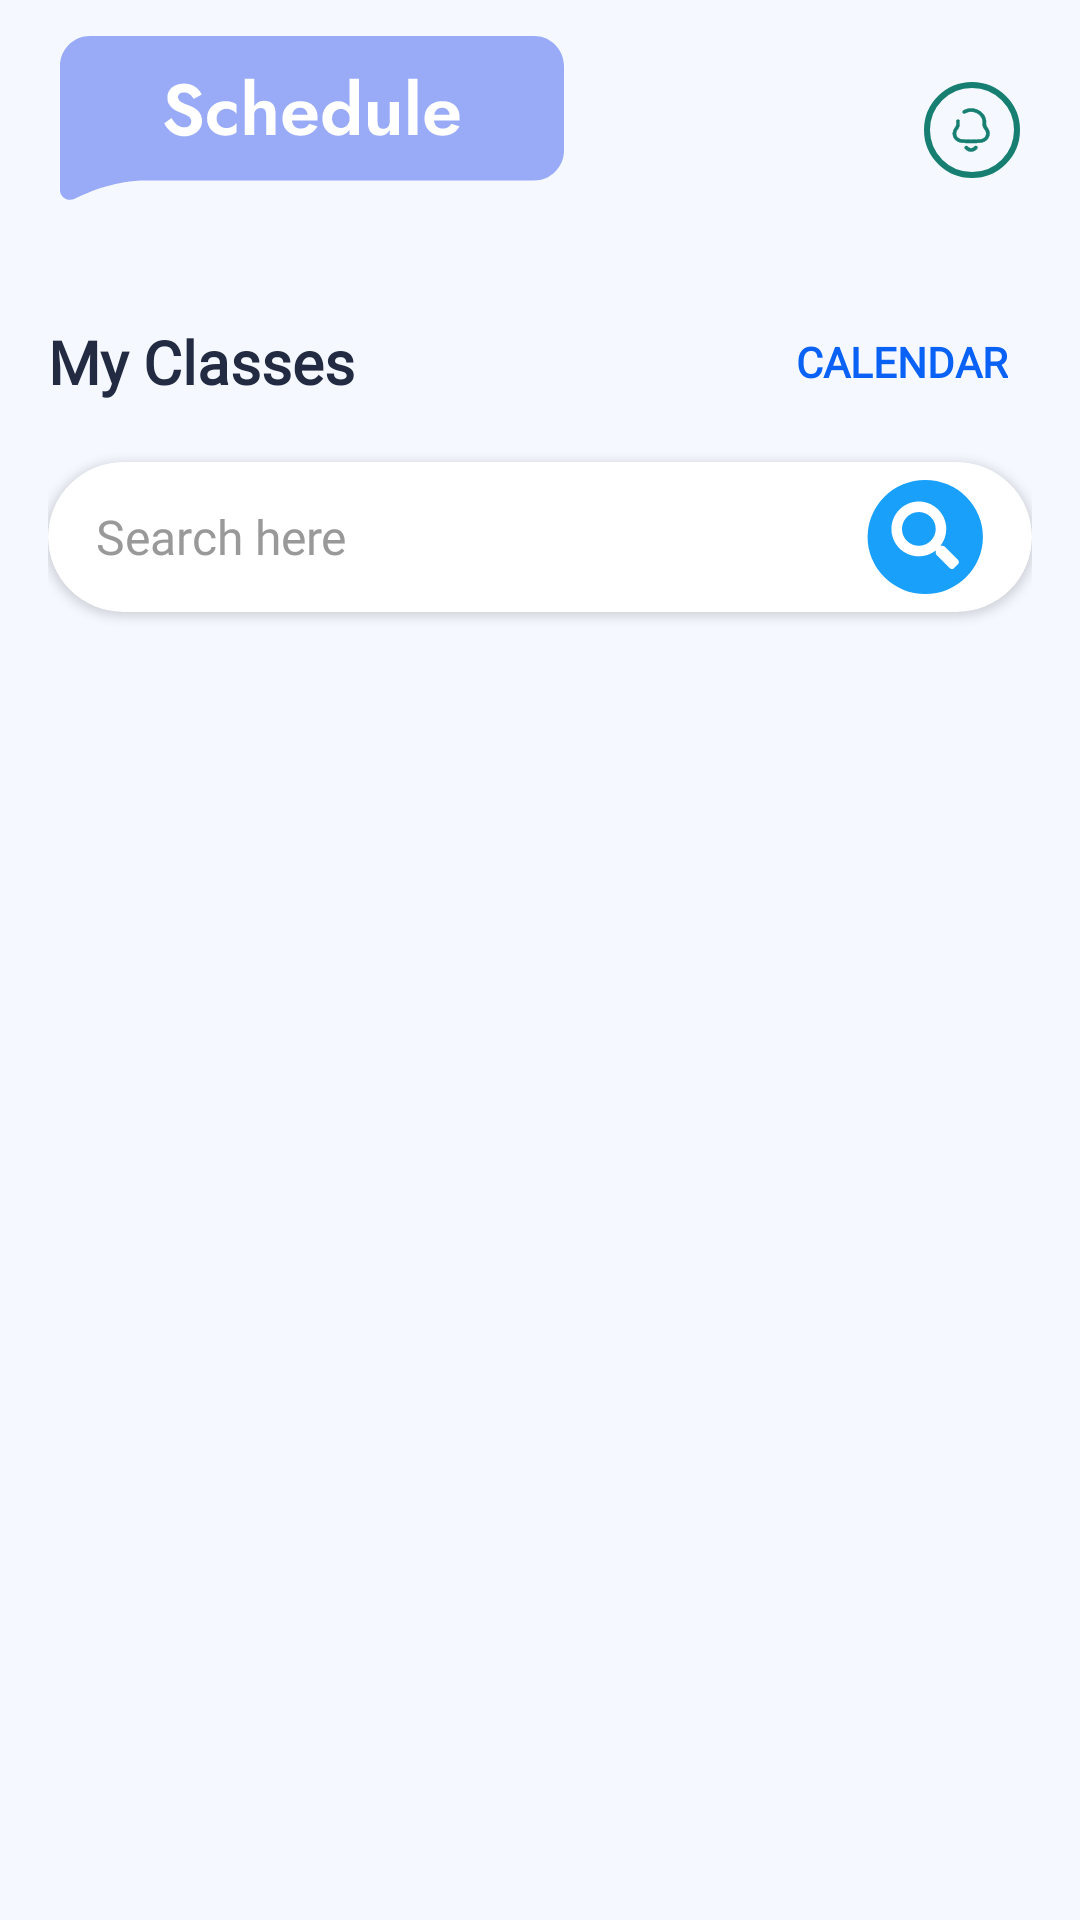

Named icons in this screenshot (1080 × 1920) and their centers, (x,y):
Notifications: (972,130)
